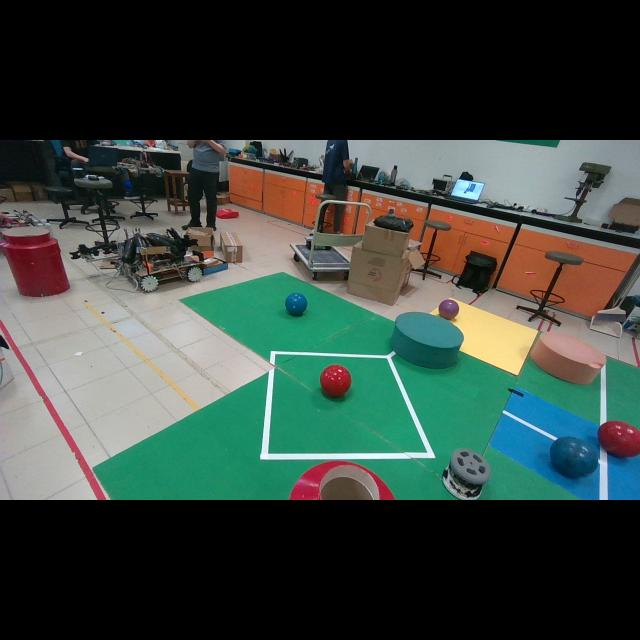B: (550, 436, 598, 478), (285, 292, 308, 316)
P: (439, 299, 459, 319)
R: (598, 421, 640, 458), (320, 365, 351, 398)
